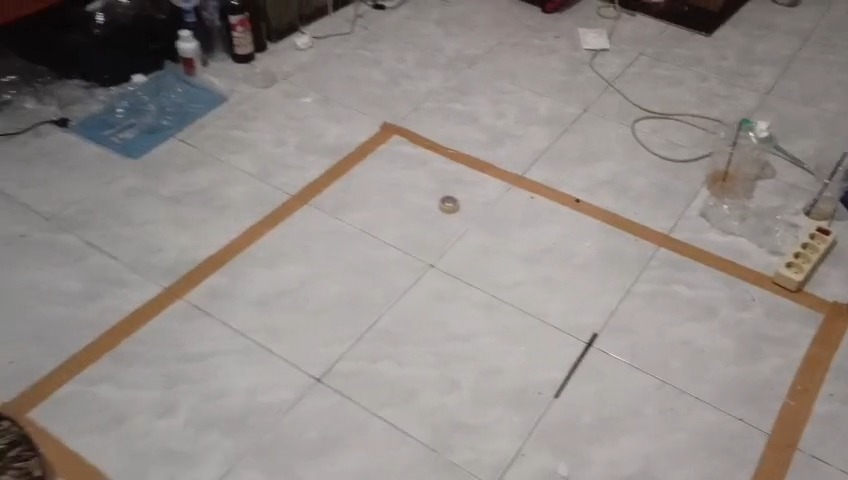floor marking: (0, 123, 847, 479)
